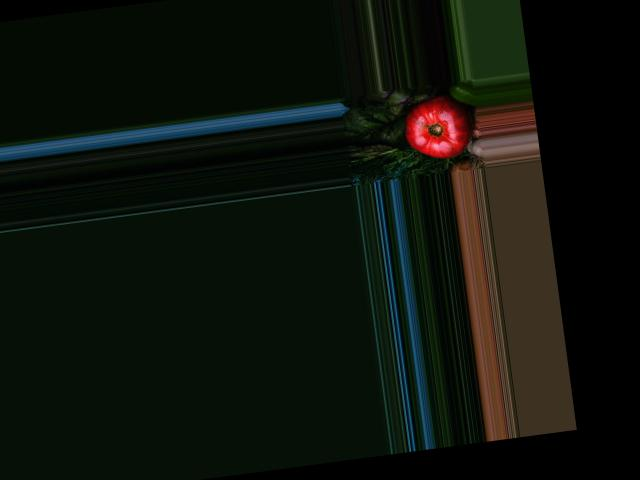tomato: (401, 89, 478, 162)
